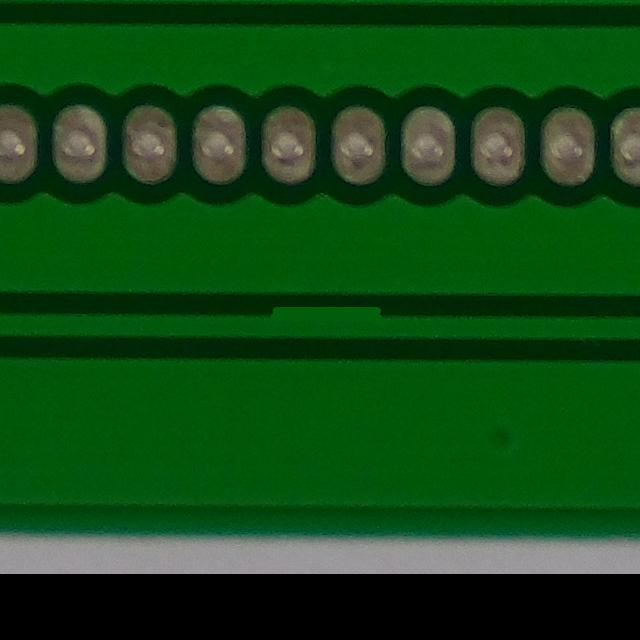spur: (251, 293, 389, 348)
